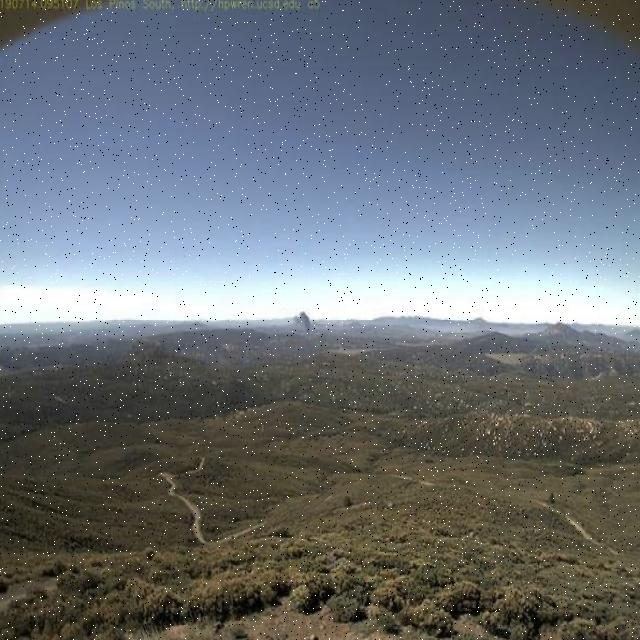smoke: (288, 307, 314, 343)
